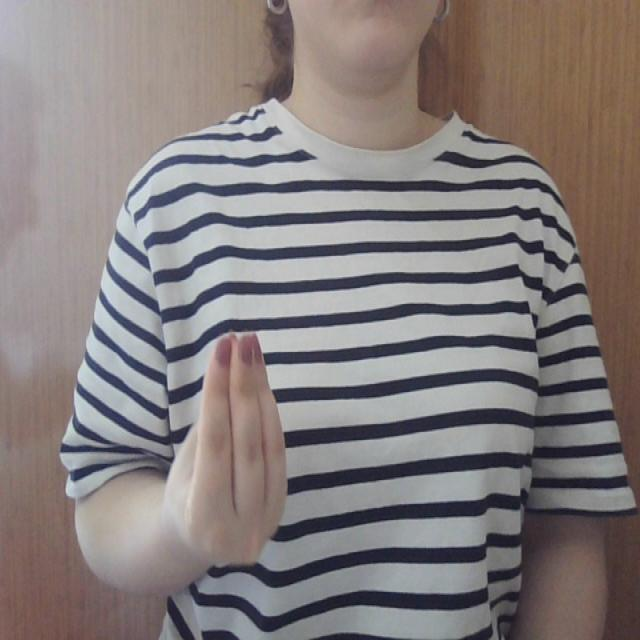iyi: (171, 326, 294, 580)
